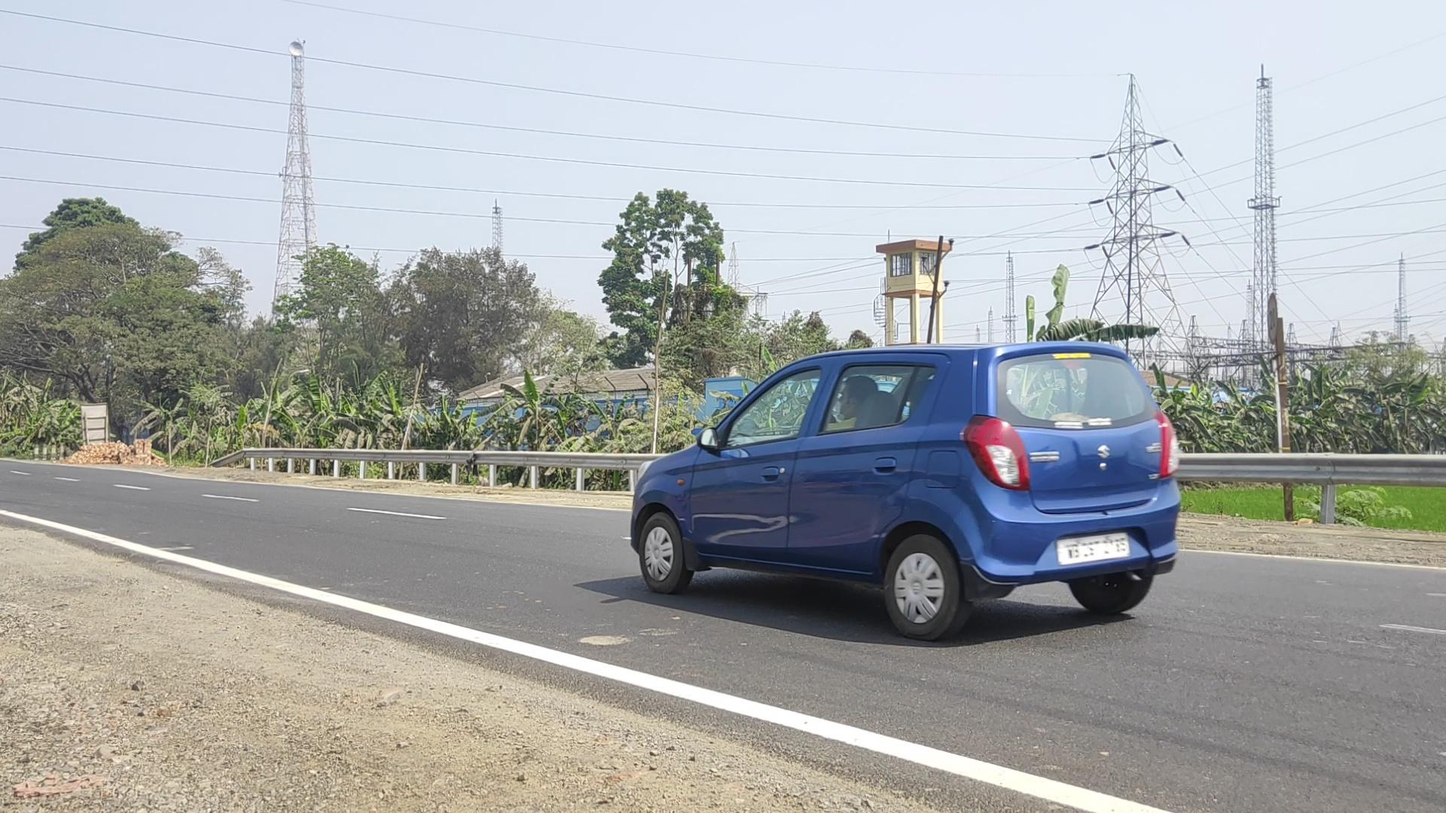car: (630, 341, 1180, 641)
